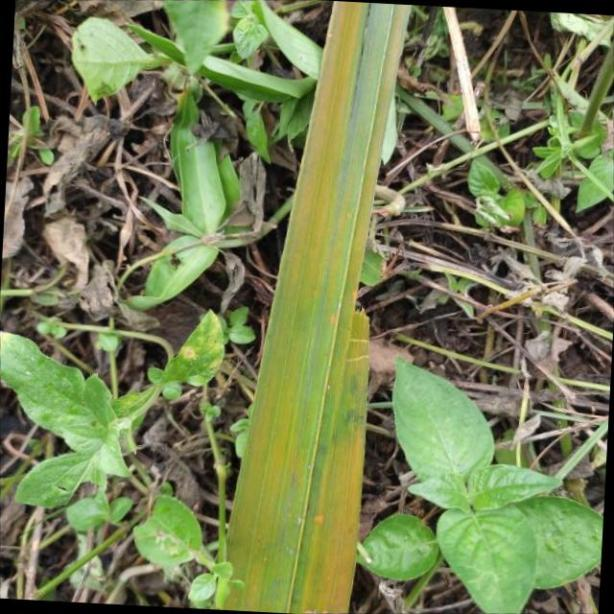Megnesium: (216, 0, 412, 614)
